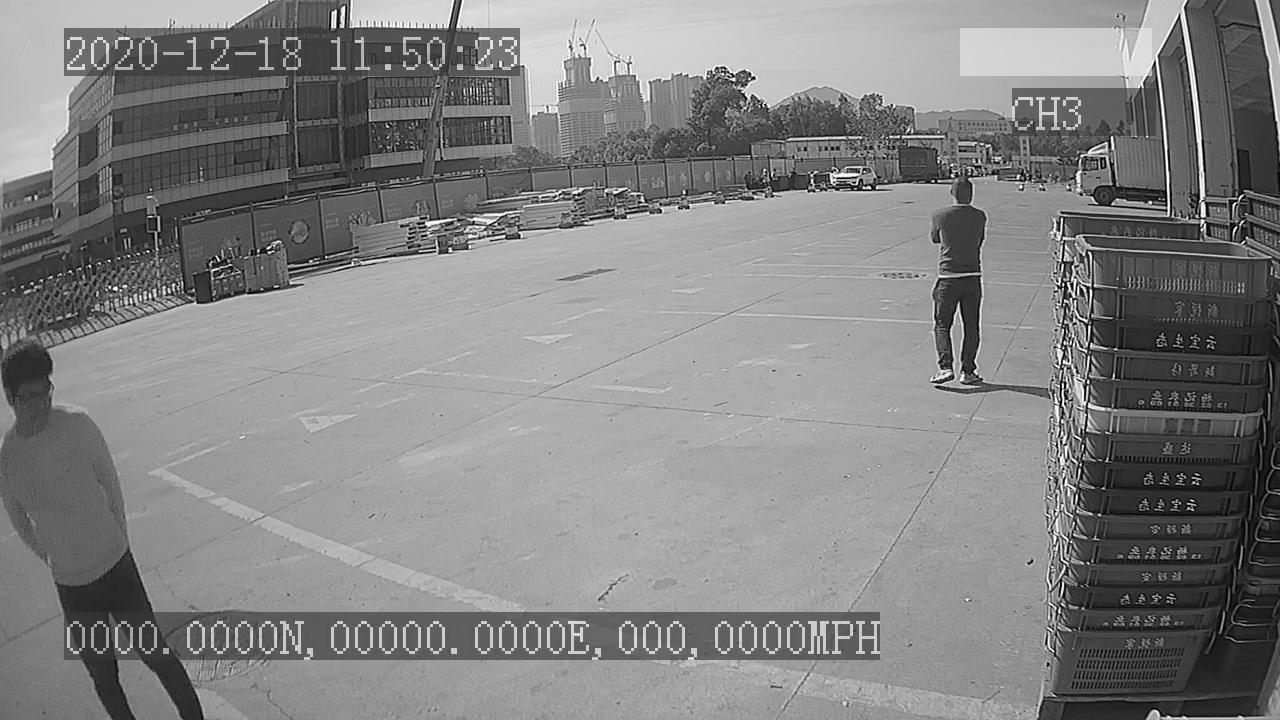person: (927, 177, 995, 392)
